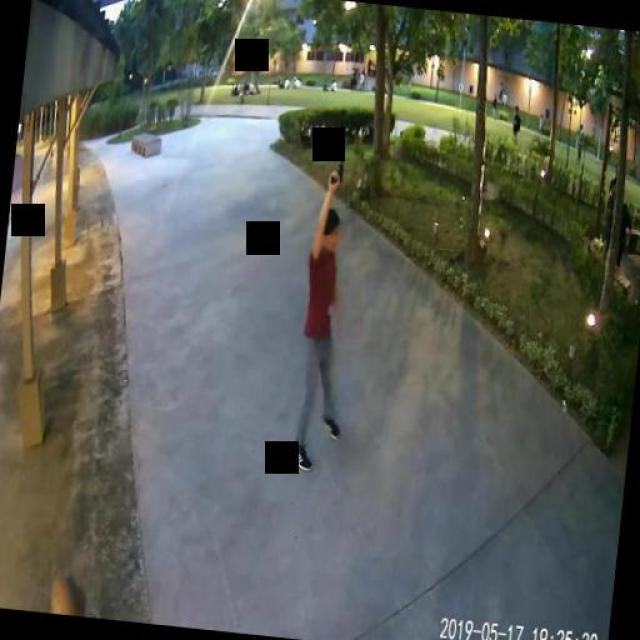gun: (329, 144, 346, 182)
